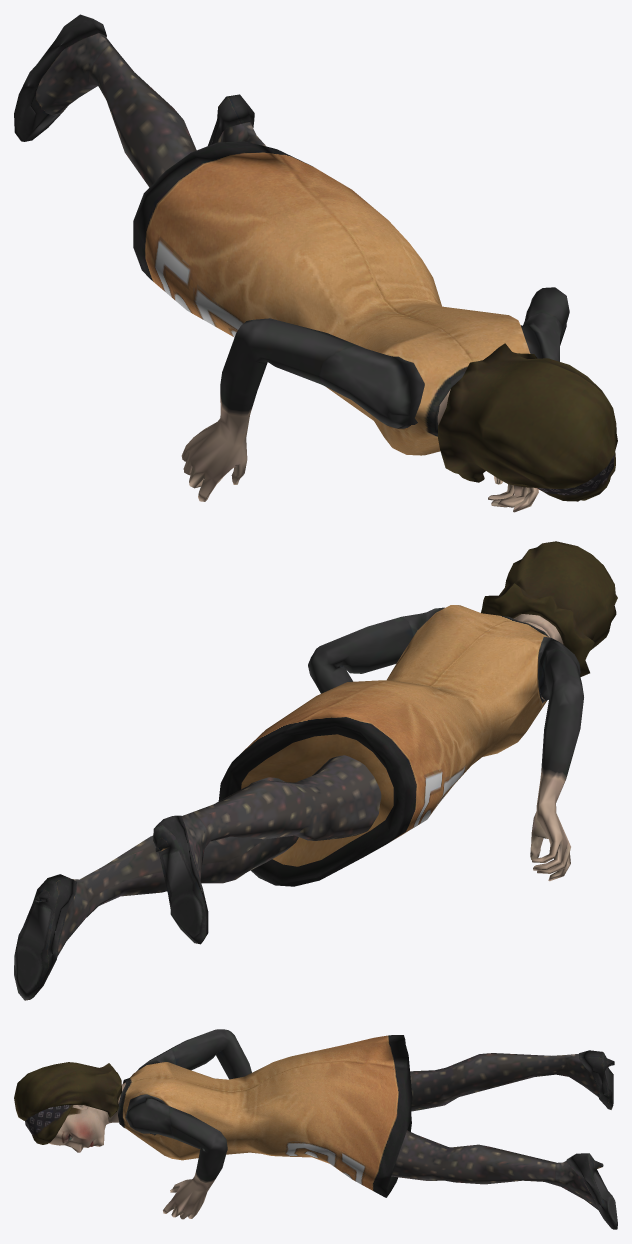
File: dest_nt_nuked_female_02_d0_LOD1.obj
The picture shows the model from 3 angles, top to bottom: view 1: azimuth 30°, elevation 25°; view 2: azimuth 150°, elevation 25°; view 3: azimuth 270°, elevation 25°; orthographic projection. The views are drawn at different scales.
Parts seen in each view (by area): view 1: mtl_nt_2020_manne_fem01_dress1, mtl_nt_2020_manne_fem01_head1, mtl_nt_2020_manne_fem01_hair1; view 2: mtl_nt_2020_manne_fem01_dress1, mtl_nt_2020_manne_fem01_head1, mtl_nt_2020_manne_fem01_hair1; view 3: mtl_nt_2020_manne_fem01_dress1, mtl_nt_2020_manne_fem01_head1, mtl_nt_2020_manne_fem01_hair1.
Boxes of the visible parts, box(x1,y1,x2,y2) form: mtl_nt_2020_manne_fem01_dress1: box(14, 14, 530, 455); mtl_nt_2020_manne_fem01_head1: box(36, 33, 569, 512); mtl_nt_2020_manne_fem01_hair1: box(438, 343, 617, 501); mtl_nt_2020_manne_fem01_dress1: box(14, 605, 549, 1000); mtl_nt_2020_manne_fem01_head1: box(57, 607, 583, 956); mtl_nt_2020_manne_fem01_hair1: box(481, 541, 617, 676); mtl_nt_2020_manne_fem01_dress1: box(118, 1035, 617, 1229); mtl_nt_2020_manne_fem01_head1: box(49, 1029, 599, 1219); mtl_nt_2020_manne_fem01_hair1: box(14, 1062, 121, 1144).
Size of the model in its own units: 71.94 by 49.22 by 183.
